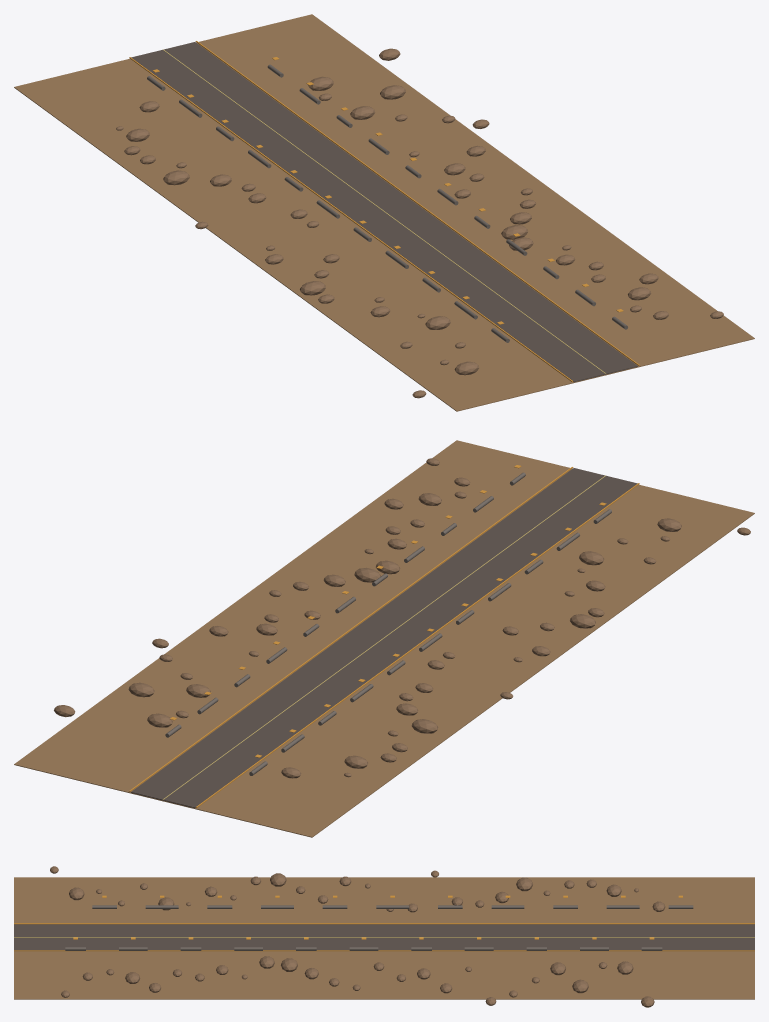
File: desert_highway_track.glb
3 renders of one model, top to bottom at view 1: azimuth 30°, elevation 25°; view 2: azimuth 150°, elevation 25°; view 3: azimuth 270°, elevation 25°, orthographic. The views are drawn at different scales.
Parts seen in each view (by area): view 1: part_0, part_1, part_3, part_4, part_2; view 2: part_0, part_1, part_3, part_4, part_2; view 3: part_0, part_1, part_3, part_4, part_2.
Part boxes in pixels (x1,y1,x2,y2): part_0: (14,14,754,411); part_1: (131,42,637,382); part_3: (129,57,573,381); part_4: (195,41,639,365); part_2: (163,49,605,373); part_0: (14,440,754,837); part_1: (131,468,637,808); part_3: (195,483,639,807); part_4: (129,467,573,791); part_2: (163,475,605,799); part_0: (14,877,754,999); part_1: (14,924,754,950); part_3: (14,923,754,924); part_4: (14,950,754,951); part_2: (14,937,754,937).
Size of the model in its own units: 80.17 by 6.1 by 180.
